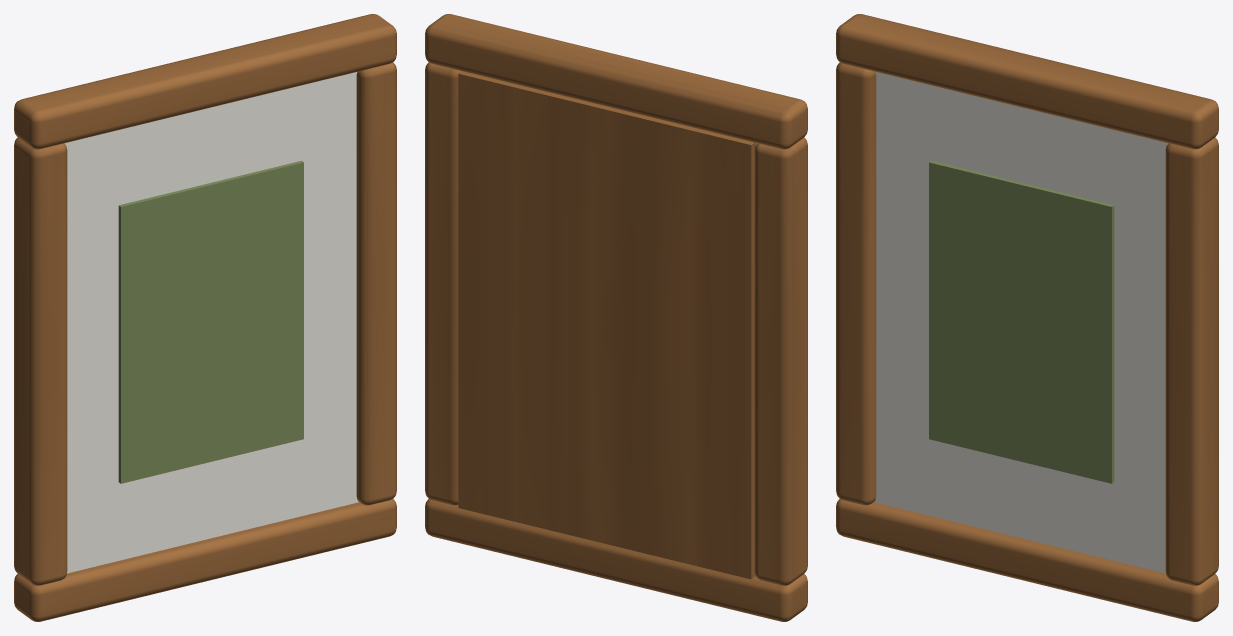
The model's file is marco-madera.glb.
3 renders of one model, left to right at view 1: azimuth 30°, elevation 25°; view 2: azimuth 150°, elevation 25°; view 3: azimuth 330°, elevation 25°, orthographic.
Parts seen in each view (by area): view 1: marco-madera; view 2: marco-madera; view 3: marco-madera.
Boxes of the visible parts, box(x1,y1,x2,y2) form: marco-madera: box(14, 14, 396, 621); marco-madera: box(425, 14, 807, 621); marco-madera: box(836, 14, 1218, 621).
Bounding box in the file's own units: 0.18 × 0.24 × 0.02.
3 materials, 1 textured.
